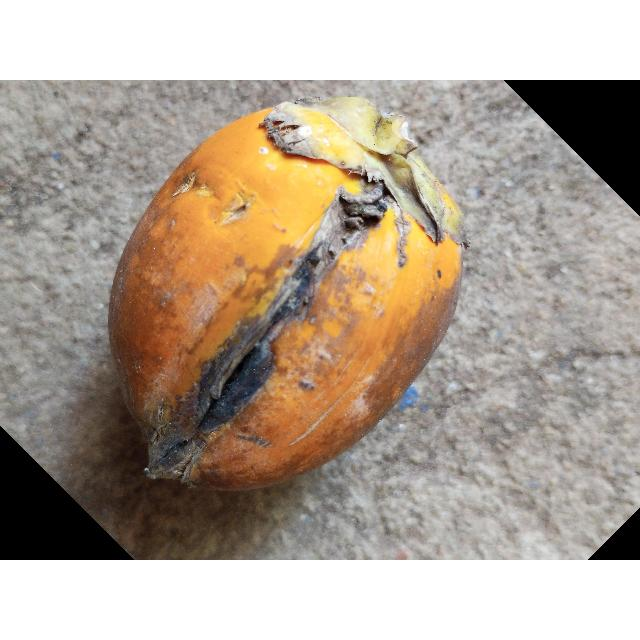damaged: (108, 97, 465, 493)
